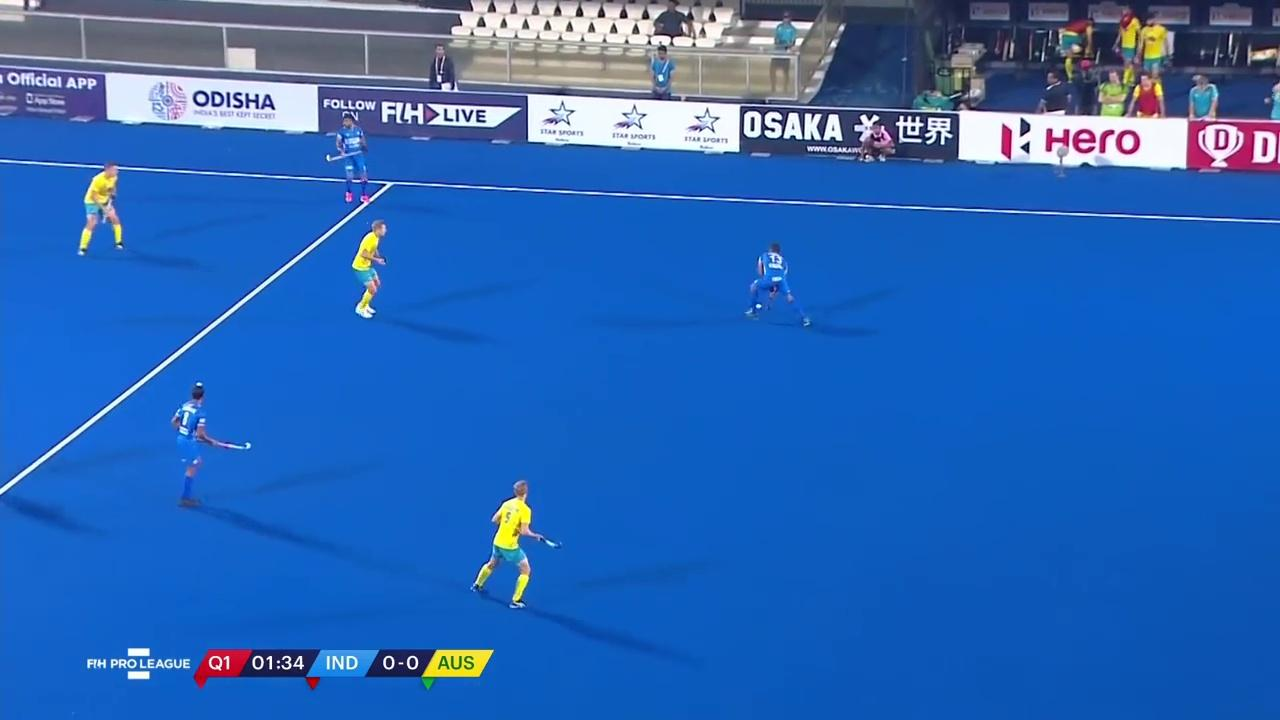ball: (753, 302, 763, 311)
